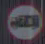Heavy Vehicles: (5, 1, 44, 41)
